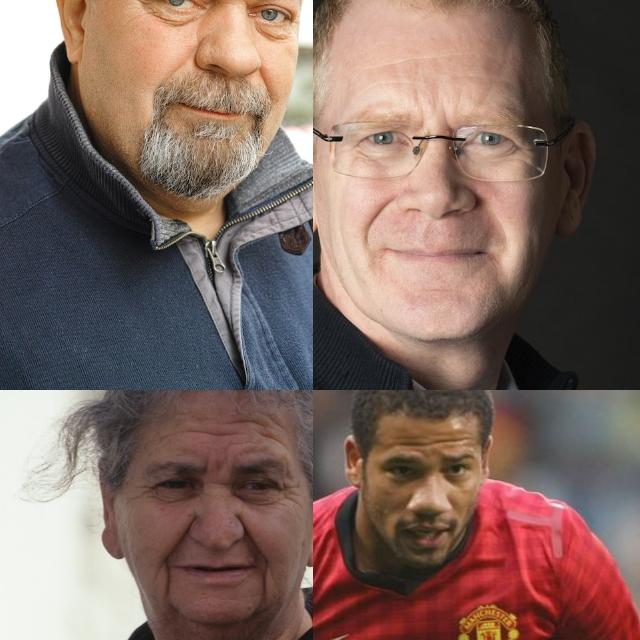crows_feet: (274, 480, 302, 504), (513, 136, 535, 160), (130, 478, 152, 502), (123, 0, 152, 12)
forehead: (243, 409, 289, 438), (188, 420, 236, 440), (374, 50, 414, 72), (436, 433, 470, 447), (387, 438, 428, 448)
frown_line: (440, 106, 454, 132)
gummy_smile: (165, 515, 193, 559), (366, 193, 394, 235), (239, 524, 271, 560), (167, 49, 197, 76), (260, 72, 276, 100)
sad_smile: (256, 568, 278, 602), (156, 566, 180, 596)
